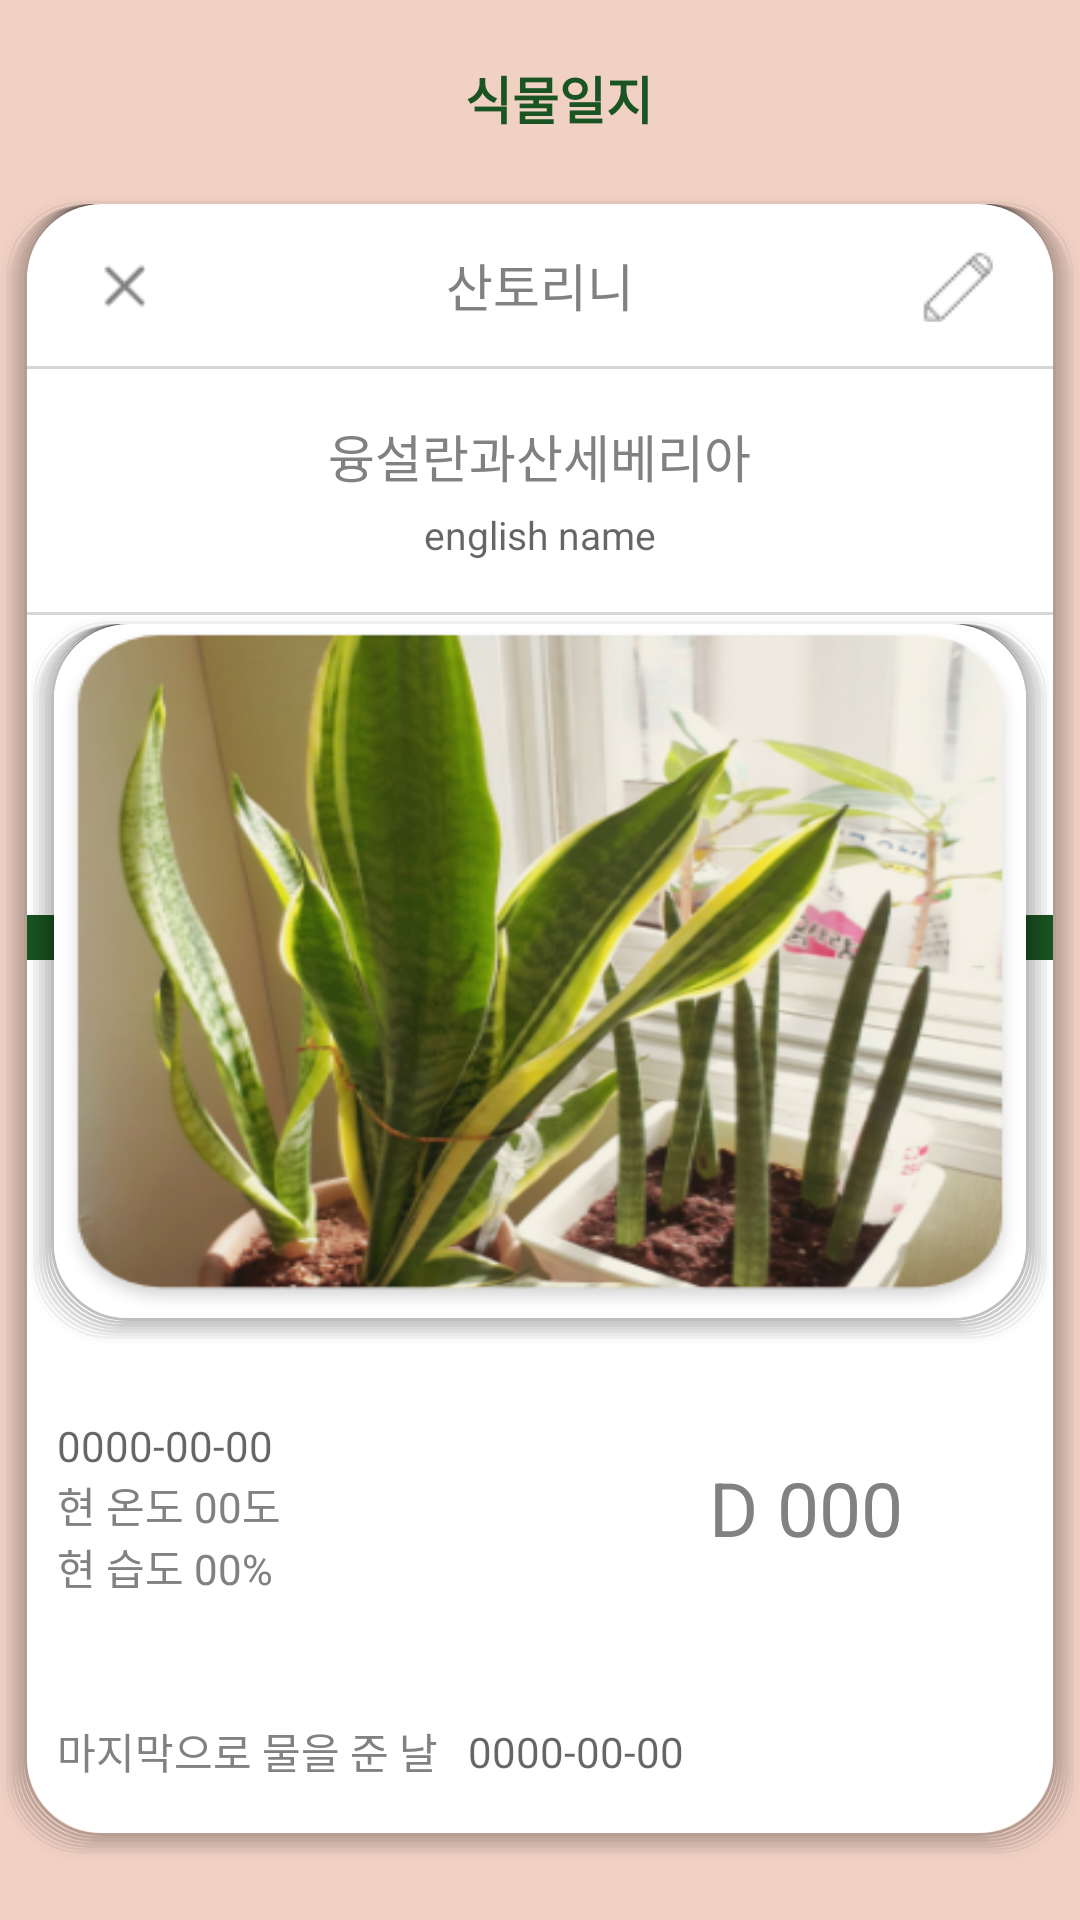

Icons on this 1080*1920 Android screen, each with its box as detection(x1, y1, x2, y2):
cancle: detection(104, 265, 145, 307)
modify: detection(923, 252, 993, 322)
